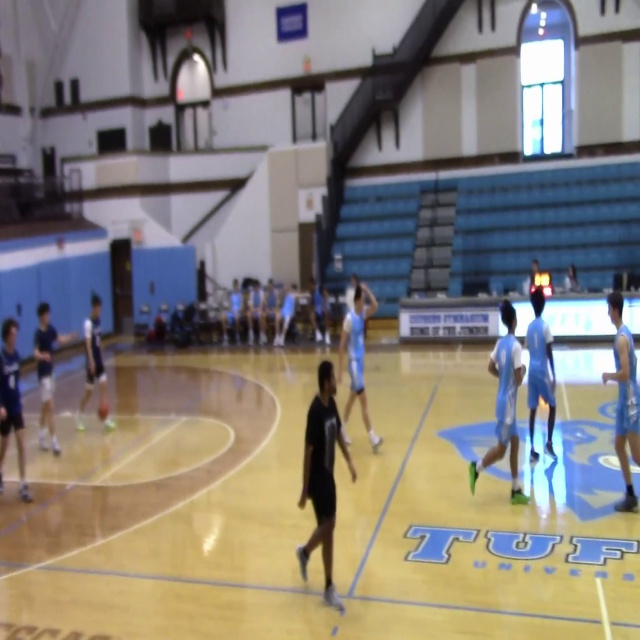Basketball: (98, 405, 109, 420)
